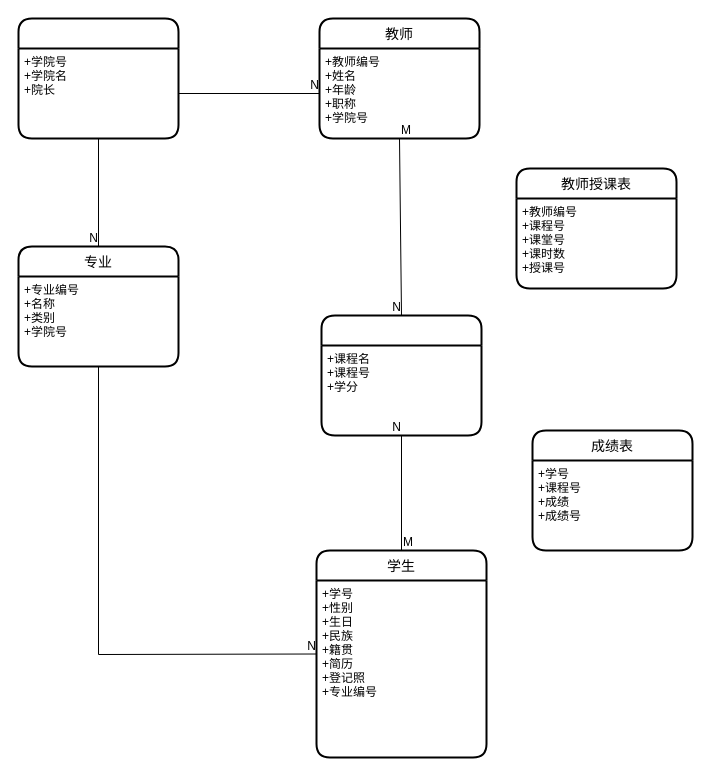
The diagram is 710 pixels wide and 777 high, and some of its shapes have lost their labels. Here are the shapes that lost their labels. From the top down, the box of each, then its label:
(17, 17, 179, 139): 学院
(320, 314, 482, 436): 课程
